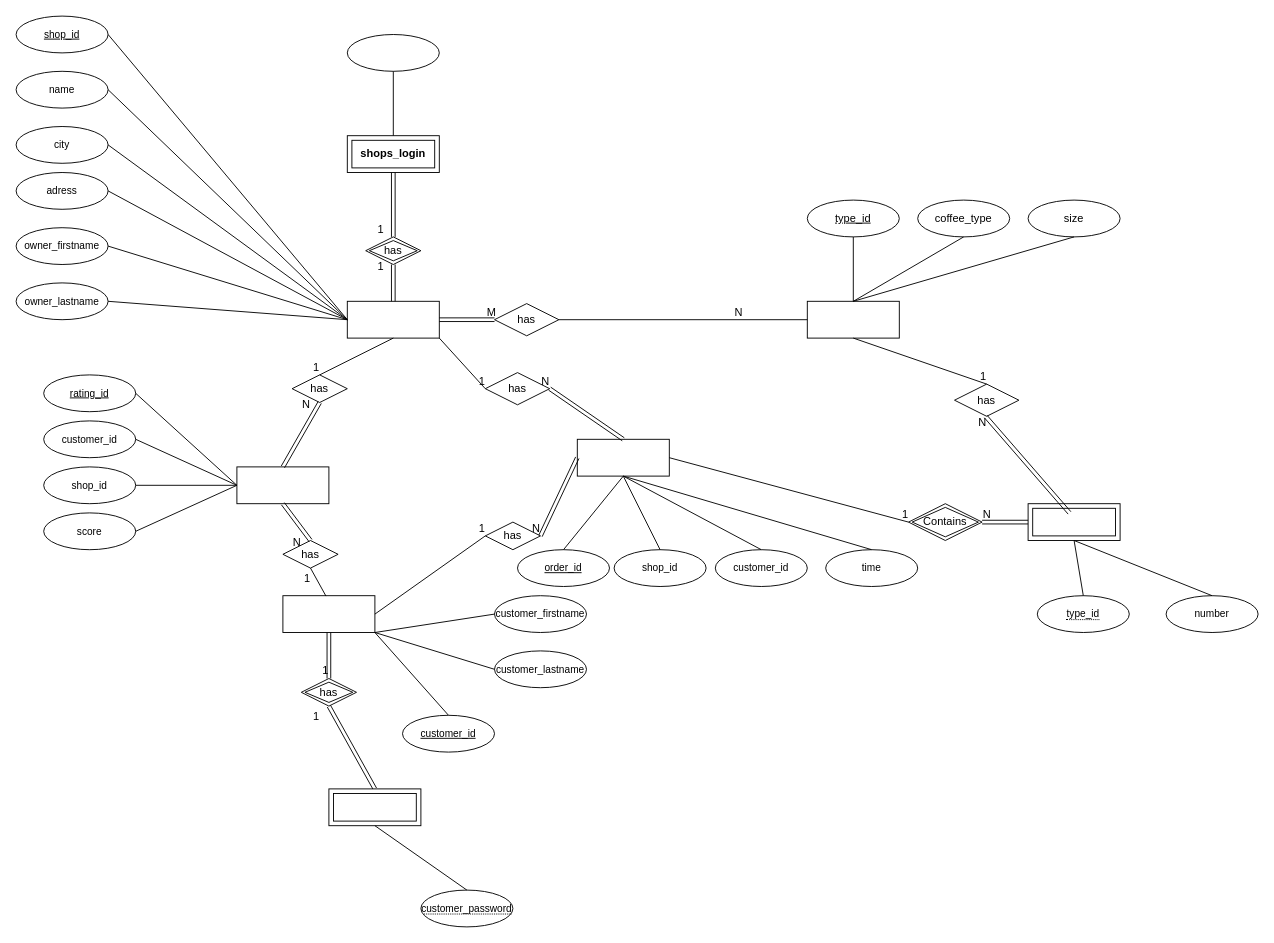
This 1274x943 diagram has some shape labels left out. The centre of each missing label's shape, as x and y in pixels:
"coffee_shops" goes at (392,319).
"coffee_types" goes at (852,319).
"customer_login" goes at (374,807).
"customers" goes at (328,613).
"order" goes at (622,457).
"orderItem" goes at (1073,521).
"ratings" goes at (282,485).
"shop_passwort" goes at (392,52).
